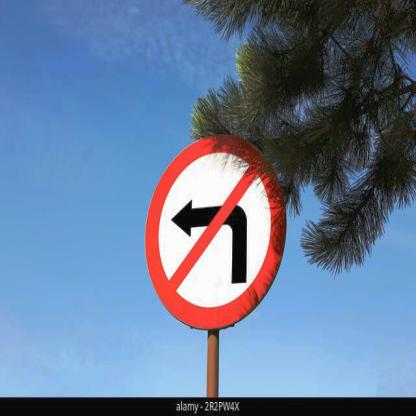No left turn: (148, 139, 285, 324)
